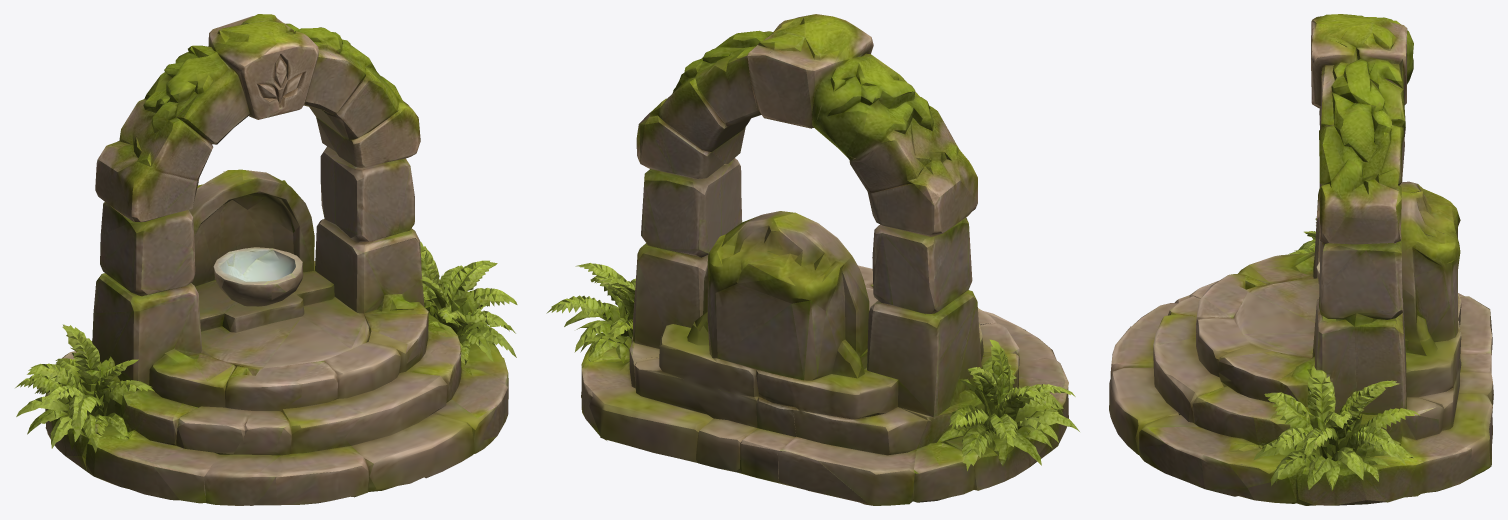
Rendered from ARC-004.glb.
3 renders of one model, left to right at view 1: azimuth 30°, elevation 25°; view 2: azimuth 150°, elevation 25°; view 3: azimuth 270°, elevation 25°, orthographic. The views are drawn at different scales.
Visible parts, largest first — view 1: ARC-004; view 2: ARC-004; view 3: ARC-004.
Part boxes in pixels (left/top/right/bottom): ARC-004: left=15, top=14, right=517, bottom=505; ARC-004: left=546, top=14, right=1079, bottom=505; ARC-004: left=1109, top=14, right=1493, bottom=505.
Size of the model in its own units: 3.94 by 3 by 2.73.
Materials: 1 (1 with a texture image).
